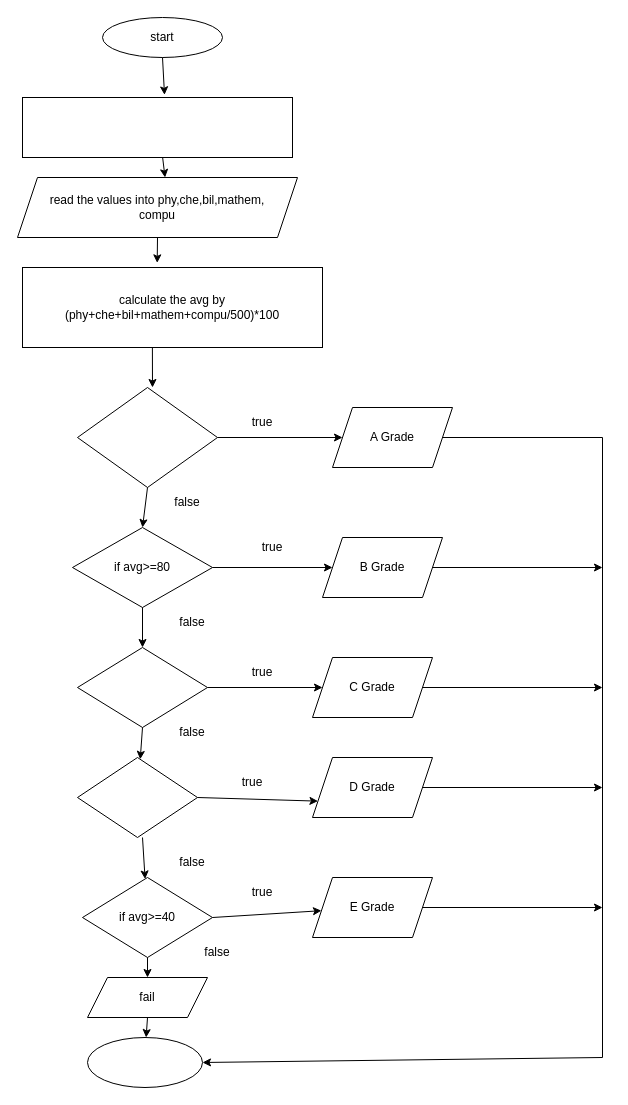
Image size: 628x1105. Some labels were removed from this diagram. The centre of each missing label's shape, as x and y in pixels:
declare the variable phy,che,bil,mathem, compu,avg: the point at 157,127
if avg>=60: the point at 137,797
if avg>=70: the point at 142,687
if avg>=90: the point at 147,437
stop: the point at 144,1062
